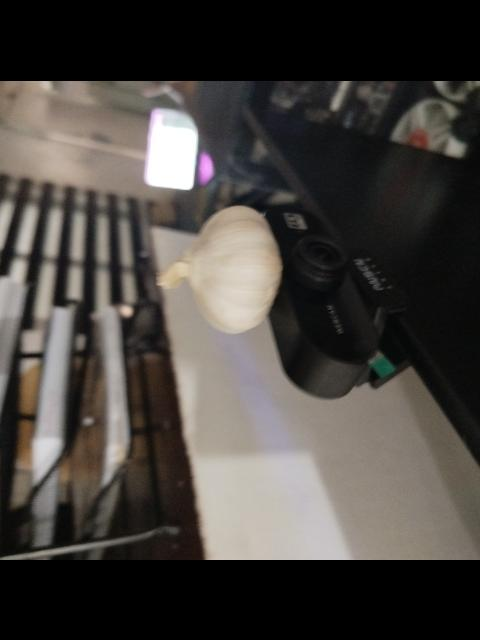garlic: (155, 204, 283, 334)
